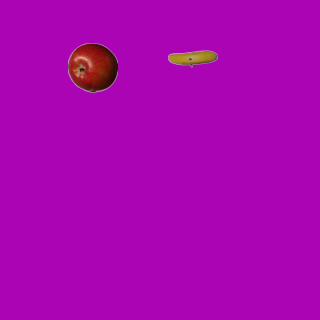Apple Braeburn: (67, 42, 117, 92)
Banana: (167, 33, 217, 83)
